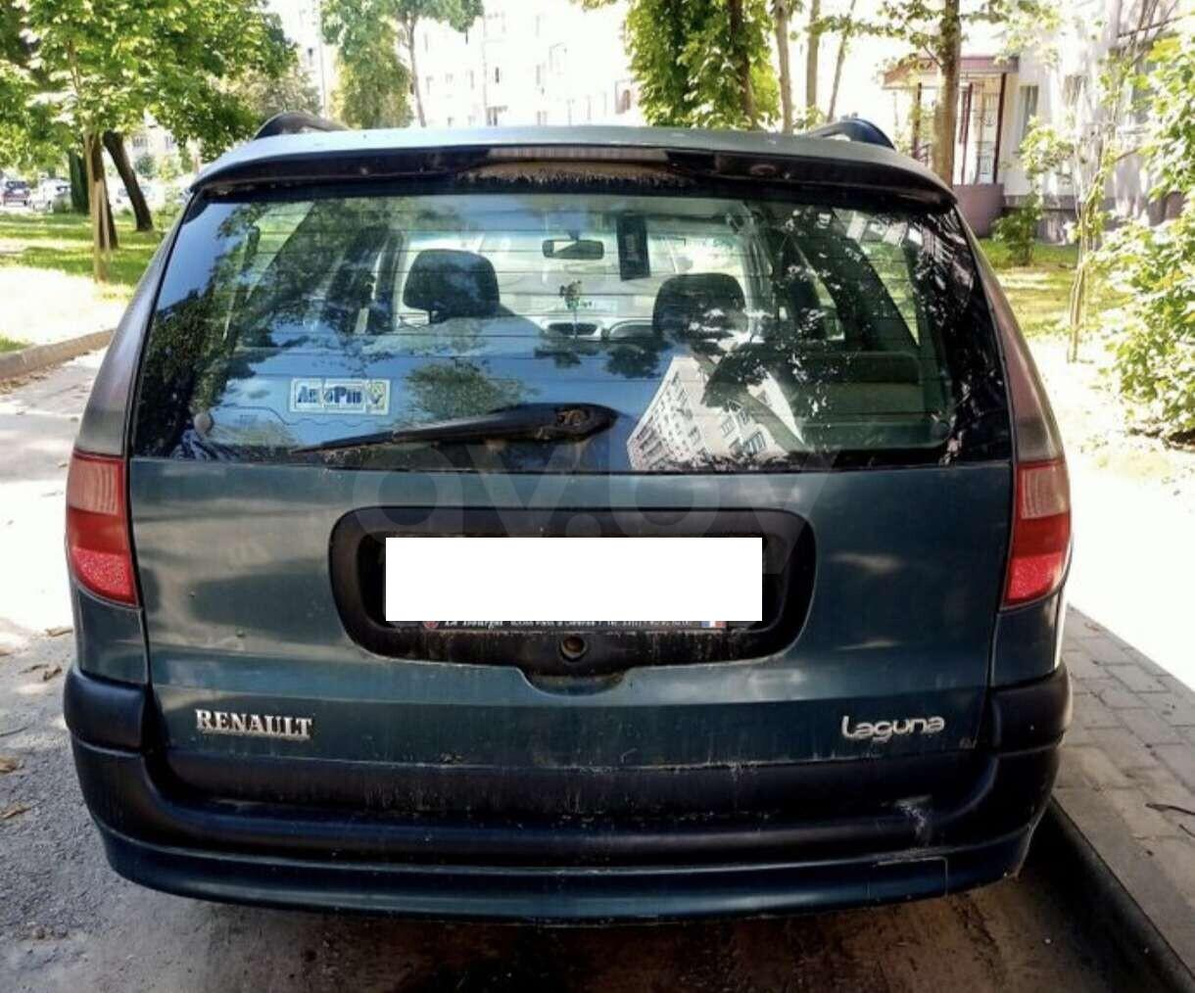Lahuna_1993-1999: (66, 112, 1079, 926)
